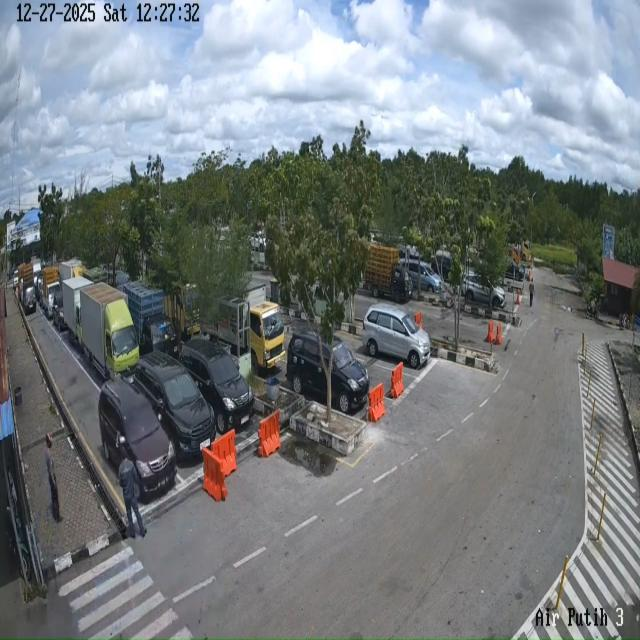Golongan IVA: (98, 378, 176, 496), (133, 352, 215, 457), (286, 329, 370, 414), (180, 339, 254, 434), (362, 304, 431, 368), (462, 271, 506, 308), (403, 259, 443, 294)
Golongan IVB: (122, 281, 178, 357), (364, 243, 413, 303), (41, 266, 60, 318)
Golongan VB: (203, 284, 286, 372), (80, 283, 139, 379), (62, 276, 94, 343)
